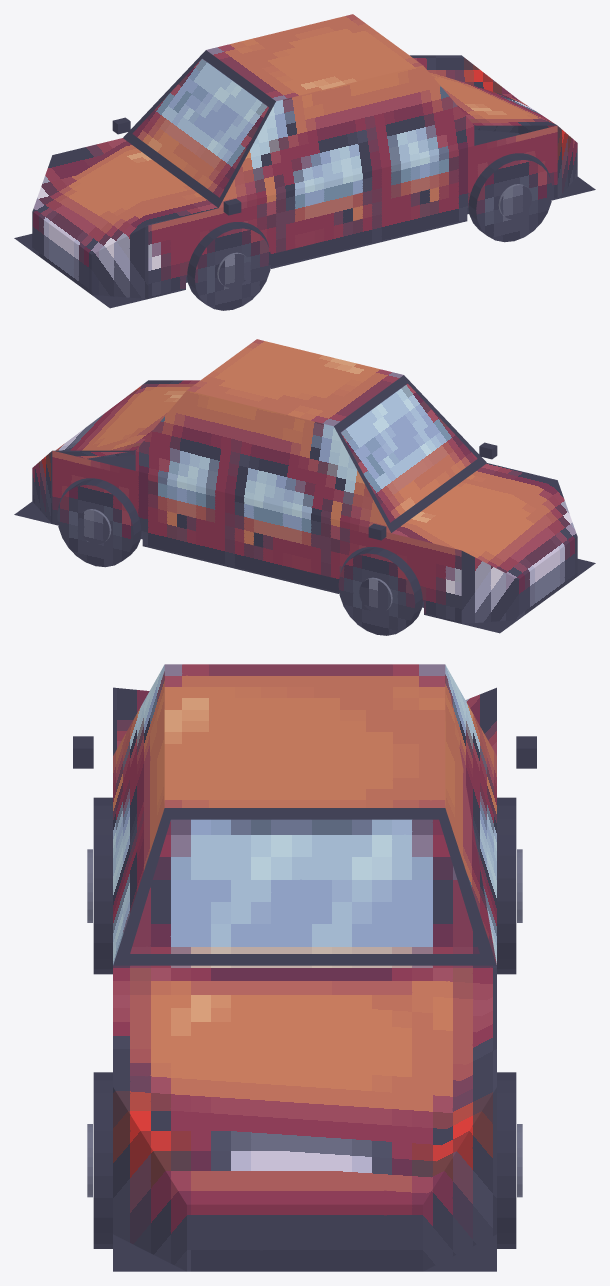
File: unindexed-sedan-red-v1.glb
The picture shows the model from 3 angles, top to bottom: view 1: azimuth 30°, elevation 25°; view 2: azimuth 150°, elevation 25°; view 3: azimuth 270°, elevation 25°; orthographic projection. The views are drawn at different scales.
Visible parts, largest first — view 1: Passenger-body-east, Cabin-windows-east, Hood, Roof, Windshield-glass, Tire_FL, Tire_RL, Trunk, Front-corner--1, Windshield-frame, Front-fascia, Underfloor (+5 smaller); view 2: Passenger-body-west, Cabin-windows-west, Hood, Roof, Windshield-glass, Trunk, Tire_FR, Tire_RR, Front-corner-1, Windshield-frame, Front-fascia, Underfloor (+5 smaller); view 3: Trunk, Rear-window-glass, Roof, Rear-fascia, Rear-window-frame, Cabin-windows-east, Cabin-windows-west, Rear-corner-1, Rear-corner--1, Tire_FL, Tire_FR, Tire_RL (+3 smaller).
Boxes of the visible parts, x1,y1,x2,y2 form: Passenger-body-east: (148,125,557,298); Cabin-windows-east: (219,65,474,207); Hood: (32,138,218,254); Roof: (206,14,422,101); Windshield-glass: (132,58,268,197); Tire_FL: (187,222,271,310); Tire_RL: (468,154,552,242); Trunk: (410,55,557,125); Front-corner--1: (91,226,148,298); Windshield-frame: (123,50,275,207); Front-fascia: (32,211,91,294); Underfloor: (14,130,595,308); Passenger-body-west: (52,450,461,623); Cabin-windows-west: (135,390,390,532); Hood: (391,463,577,579); Roof: (187,339,403,426); Windshield-glass: (341,383,477,522); Trunk: (53,380,199,458); Tire_FR: (338,547,422,635); Tire_RR: (57,479,141,567); Front-corner-1: (461,551,518,623); Windshield-frame: (334,375,486,532); Front-fascia: (518,536,577,619); Underfloor: (14,455,595,633); Trunk: (113,965,496,1204); Rear-window-glass: (130,819,479,953); Roof: (164,664,445,807); Rear-fascia: (187,1204,422,1271); Rear-window-frame: (113,808,496,965); Cabin-windows-east: (113,665,164,964); Cabin-windows-west: (445,665,496,964); Rear-corner-1: (423,1087,496,1271); Rear-corner--1: (113,1087,186,1271); Tire_FL: (93,797,112,974); Tire_FR: (497,797,516,974); Tire_RL: (93,1072,112,1248).
Bounding box in the file's own units: 76 × 27 × 31.4.
Materials: 1 (1 with a texture image).
